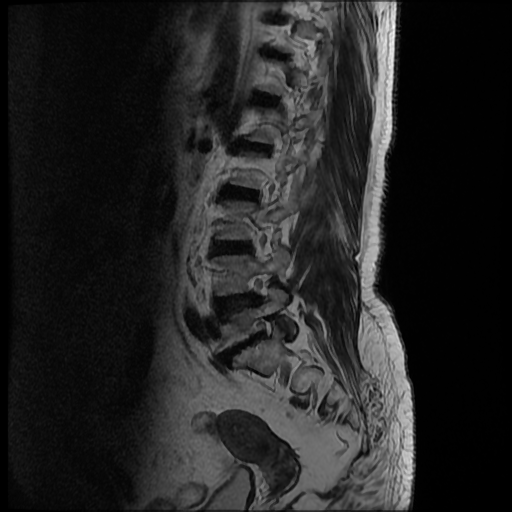LFS0: (239, 262, 282, 311), (246, 310, 285, 351)
